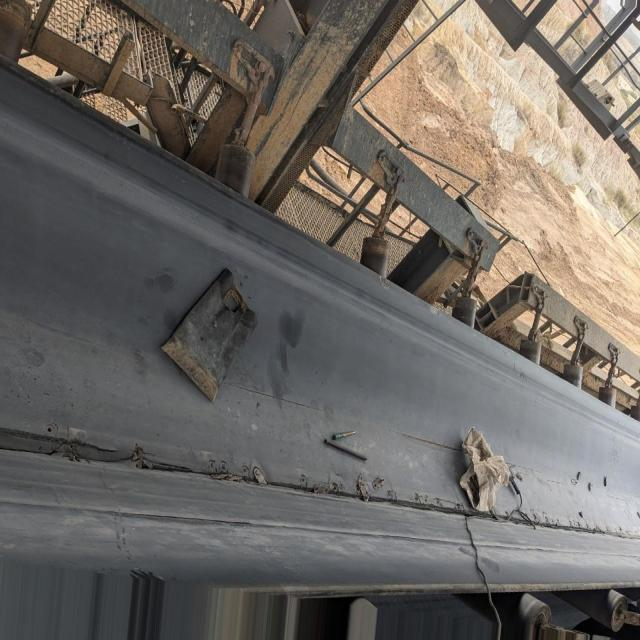Other Objects: (165, 270, 260, 403), (457, 419, 532, 513), (319, 414, 376, 470), (463, 518, 488, 587)
Roller: (211, 143, 261, 200), (571, 587, 630, 626), (507, 587, 552, 638), (362, 238, 396, 273), (452, 292, 484, 323), (596, 384, 621, 407), (522, 342, 544, 362), (570, 365, 586, 382)
Tear: (4, 422, 640, 531)
